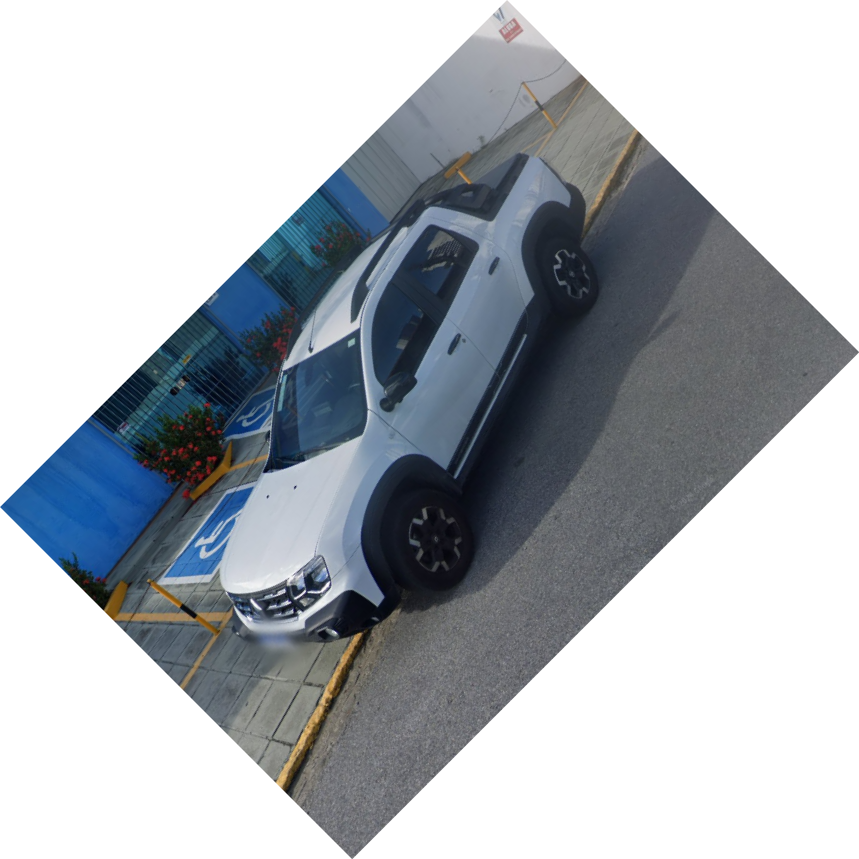car: (215, 149, 604, 651)
